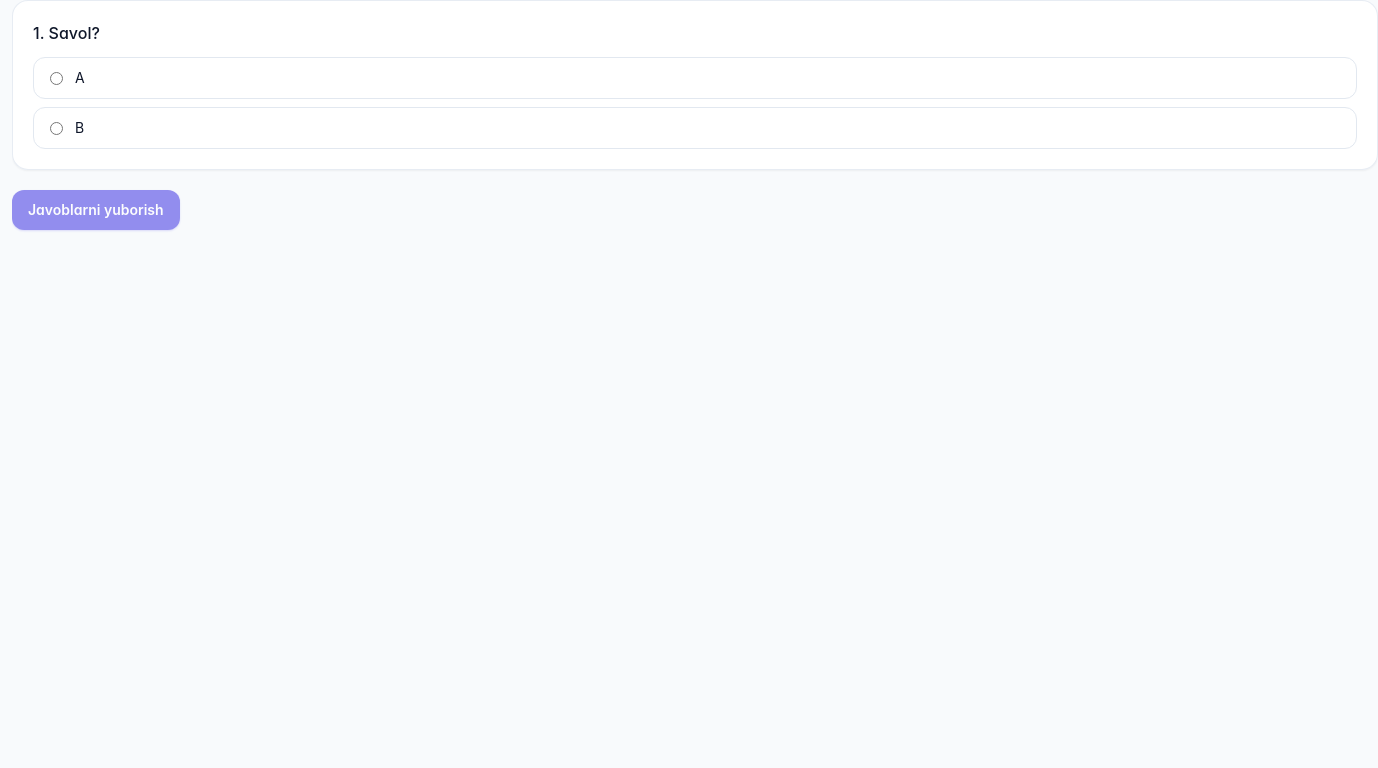
components › Quiz submits answers to the API and shows the result
expect the button "Javoblarni yuborish" is disabled: met, box [12,190,180,230]
Click the radio button labelled "B". click: {"x": 56, "y": 128}
box: [50,122,63,134]
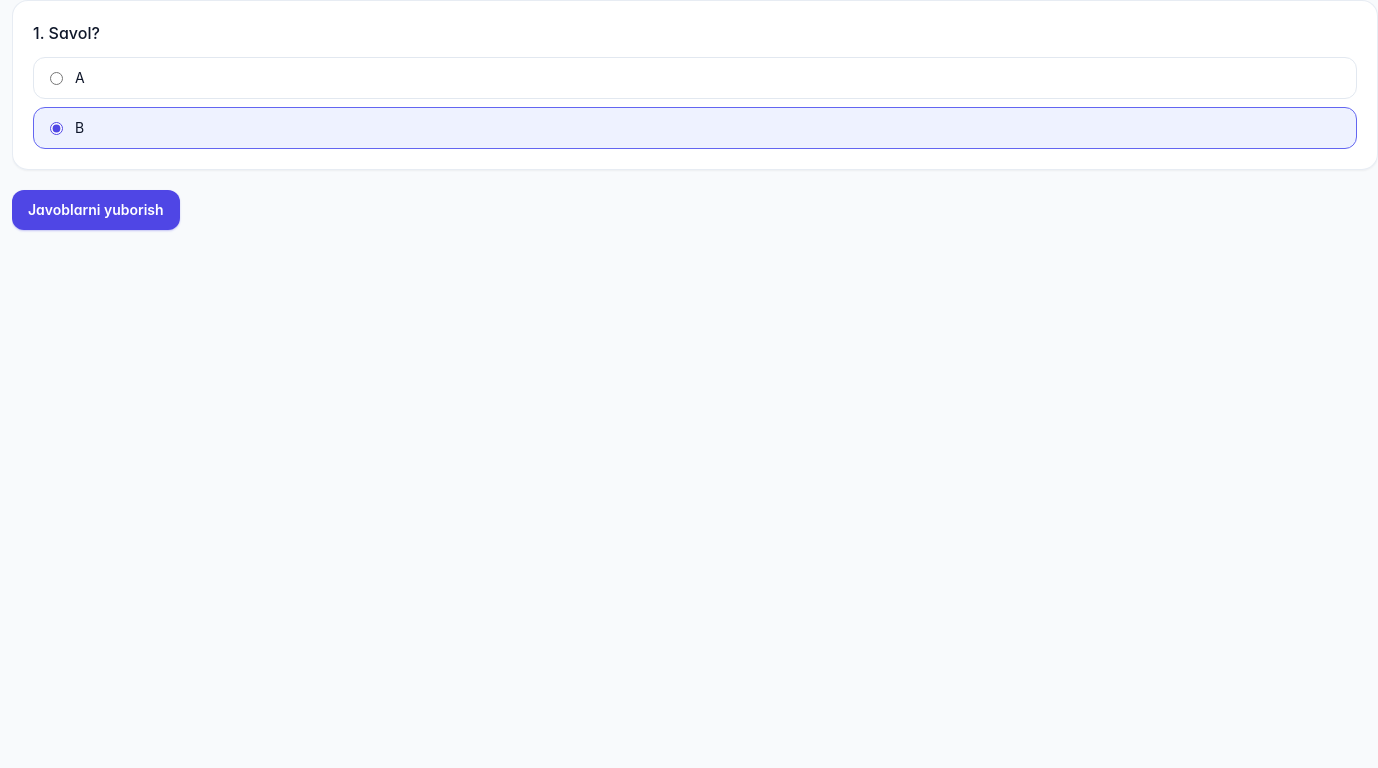
Click the button "Javoblarni yuborish". click: {"x": 96, "y": 210}
box: [12,190,180,230]
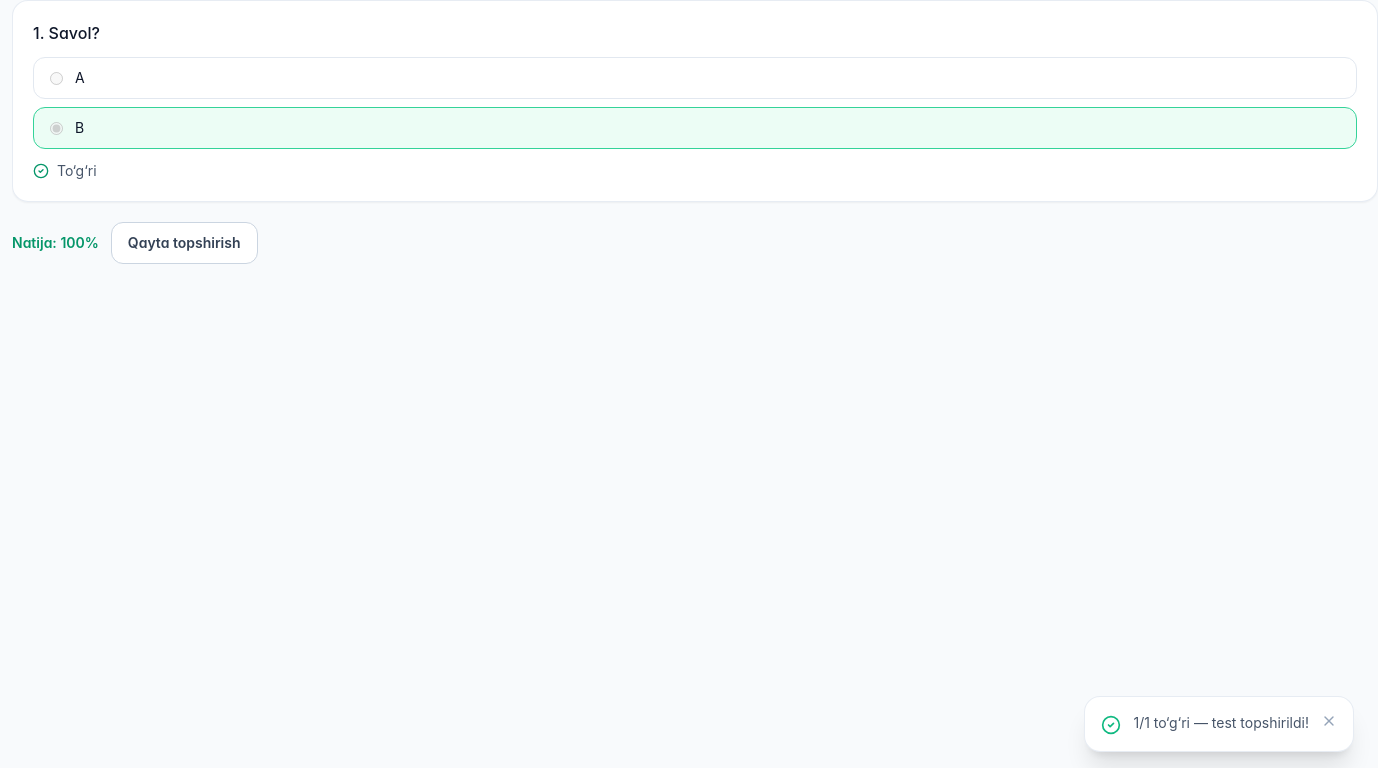
expect the text "Natija: 100%" is shown: met, box [12,233,99,253]
